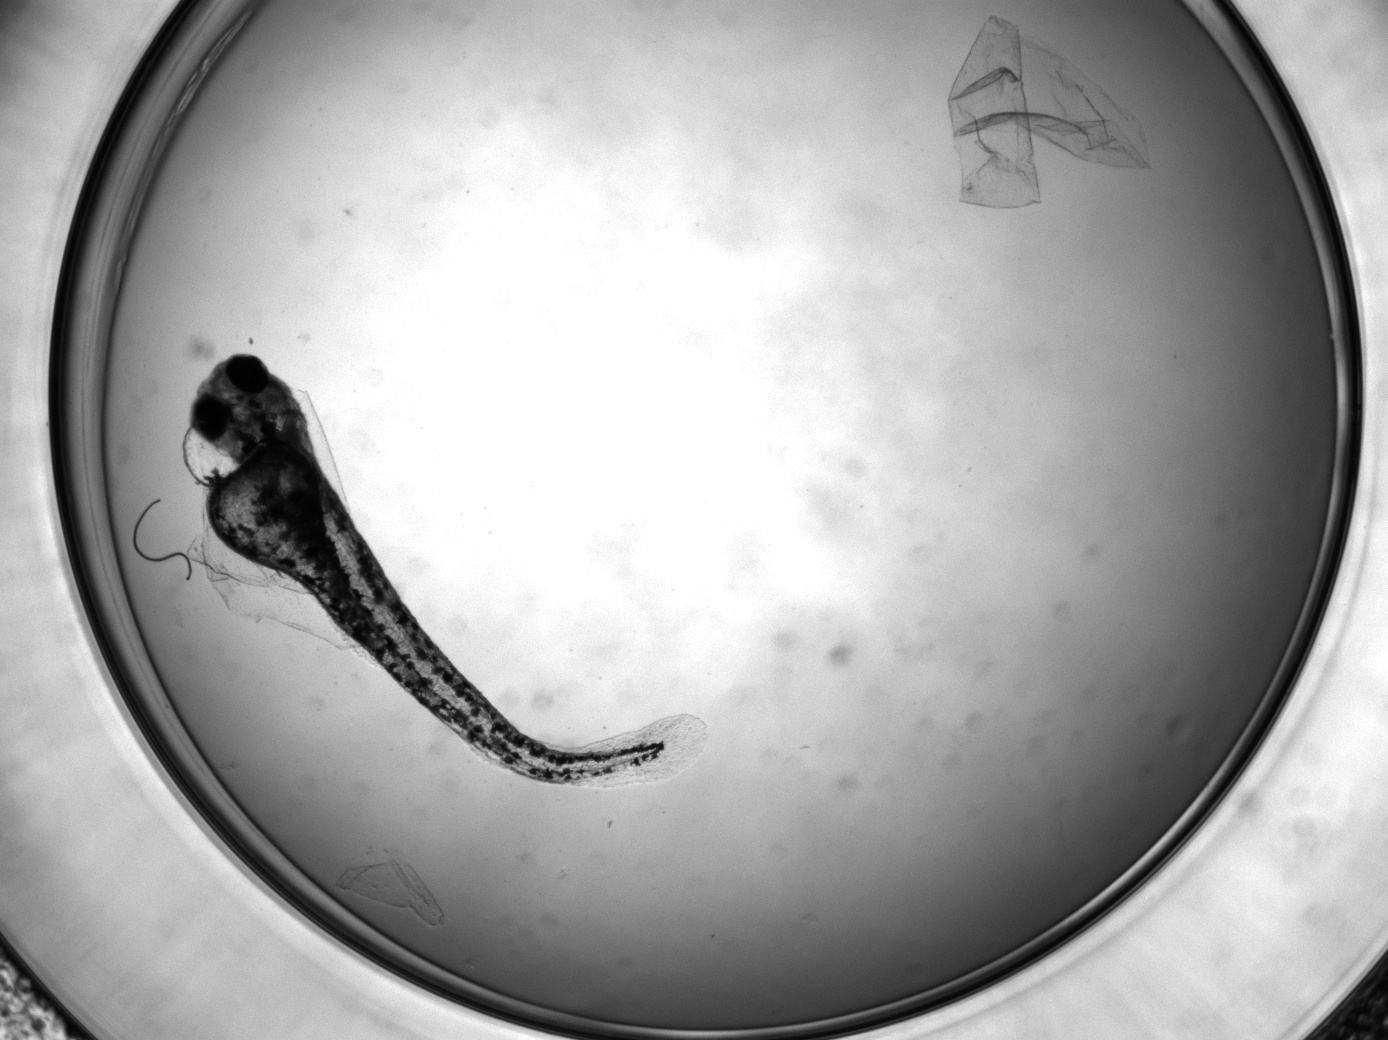debris: (947, 15, 1153, 210), (336, 862, 448, 930)
embryo: (185, 355, 667, 783)
eye: (225, 354, 269, 393), (191, 395, 228, 440)
yolksac: (185, 428, 349, 601)
